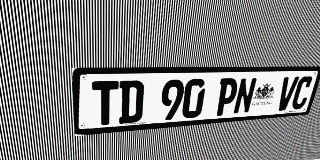0: (181, 79, 207, 119)
9: (159, 79, 185, 121)
C: (290, 76, 314, 110)
D: (118, 80, 144, 124)
N: (232, 78, 258, 115)
P: (214, 78, 239, 116)
T: (92, 81, 119, 126)
V: (275, 77, 299, 111)
